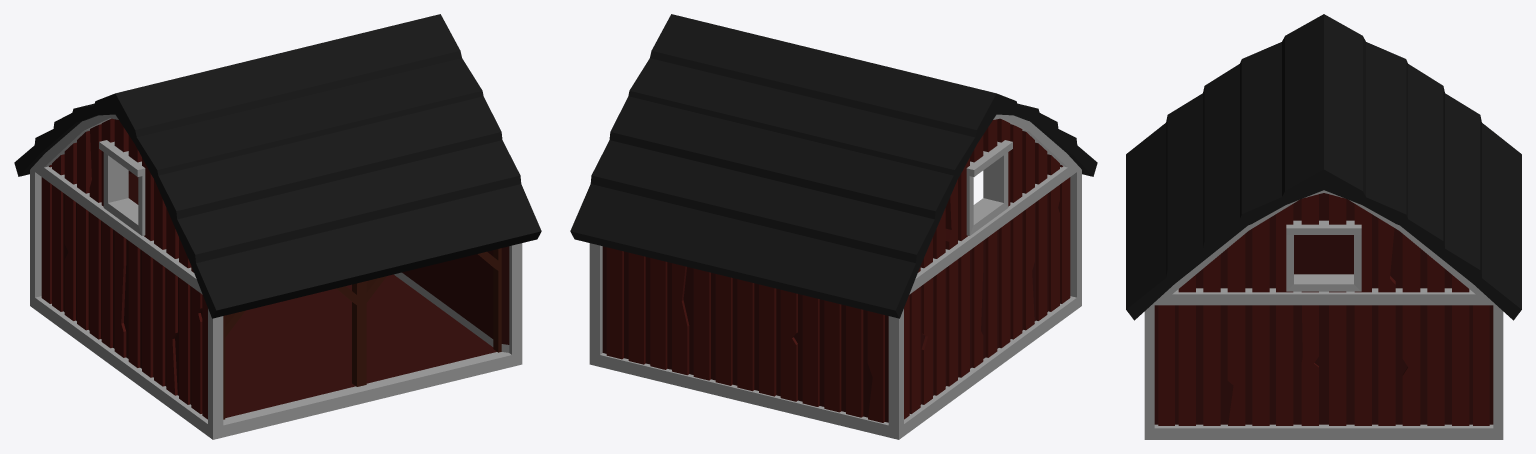
Rendered from OpenBarn.fbx.
3 renders of one model, left to right at view 1: azimuth 30°, elevation 25°; view 2: azimuth 150°, elevation 25°; view 3: azimuth 270°, elevation 25°, orthographic. The views are drawn at different scales.
Parts seen in each view (by area): view 1: OpenBarn; view 2: OpenBarn; view 3: OpenBarn.
Part boxes in pixels (x1=…): OpenBarn: x1=14, y1=14, x2=541, y2=439; OpenBarn: x1=570, y1=14, x2=1097, y2=439; OpenBarn: x1=1126, y1=14, x2=1521, y2=439.
Size of the model in its own units: 5.74 by 4.74 by 6.18.
